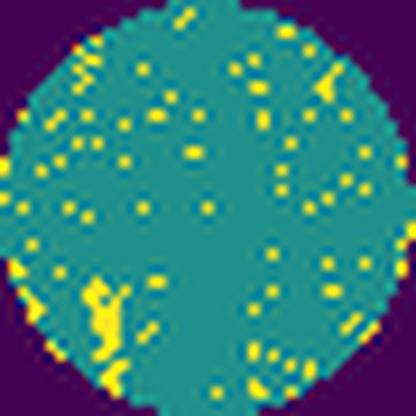Loc: (85, 275, 129, 356)
